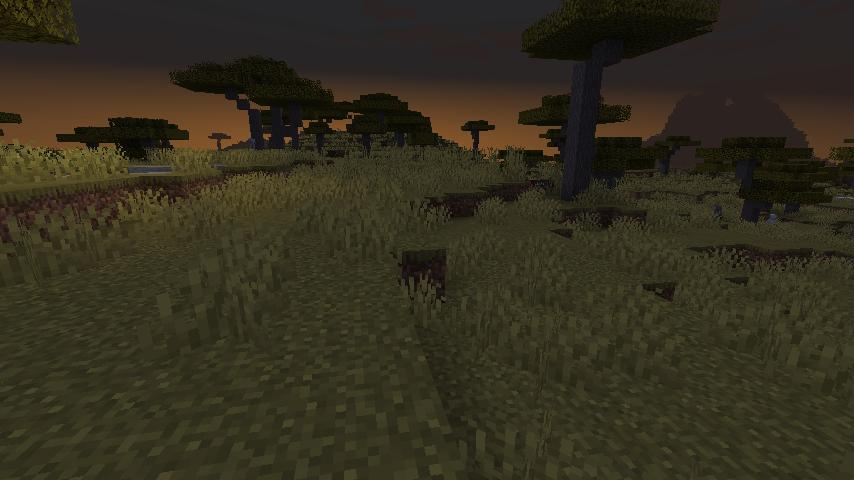skeleton: (766, 212, 779, 230), (247, 137, 258, 154)
spider: (523, 176, 558, 195)
